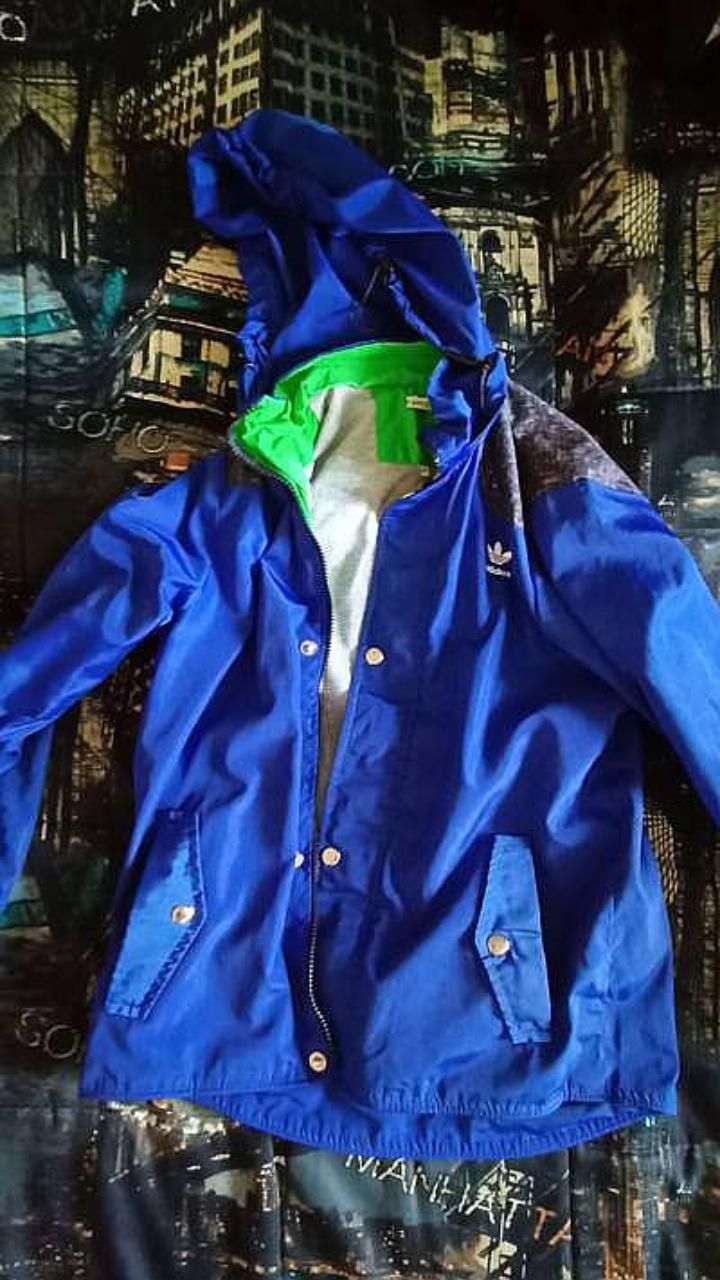Sports_Jacket: (0, 108, 719, 1157)
